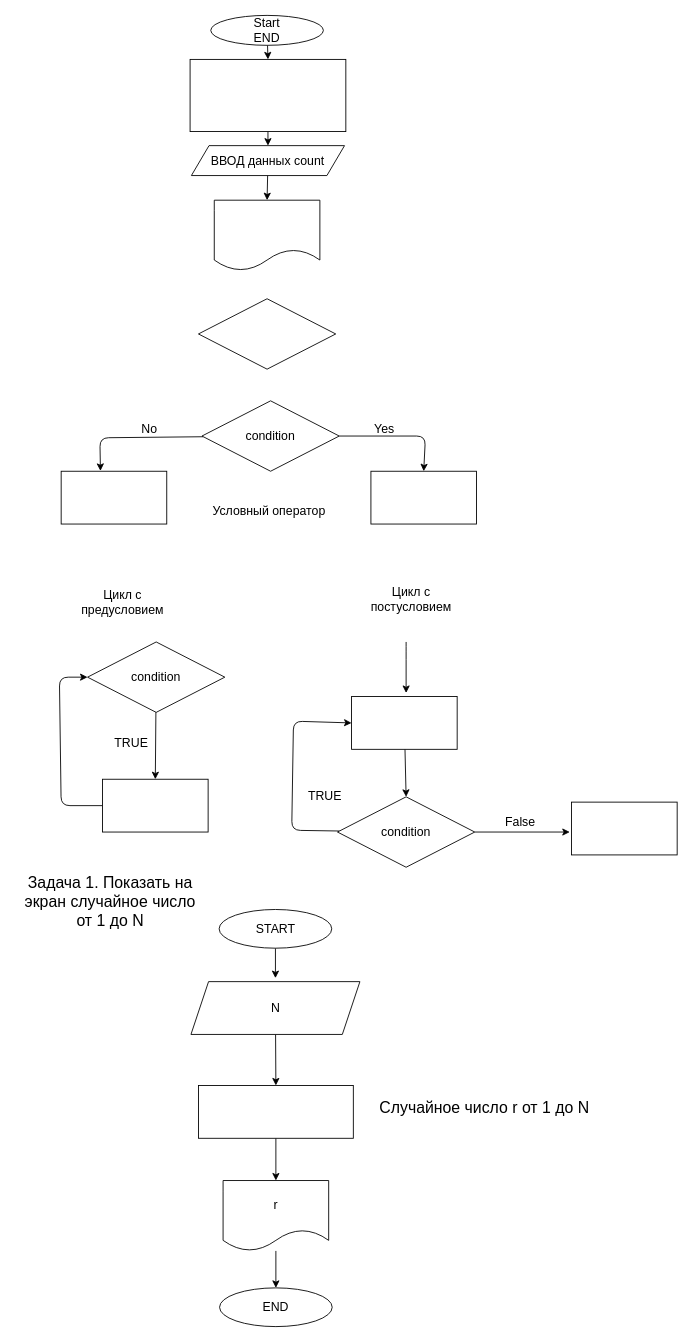
Some shapes in this 693 by 1342 pixel diagram are drawn without their labels. The box of each missing label's shape, as (x1, y1, x2, y2) in pixels:
count = 0 res = 1*Sqrt(2) (Типичное действие): (189, 59, 346, 132)
r = random(1, N): (198, 1085, 353, 1138)
ВЫВОД res: (213, 199, 320, 271)
Действие: (102, 778, 208, 832)
Условие: (198, 298, 336, 369)
